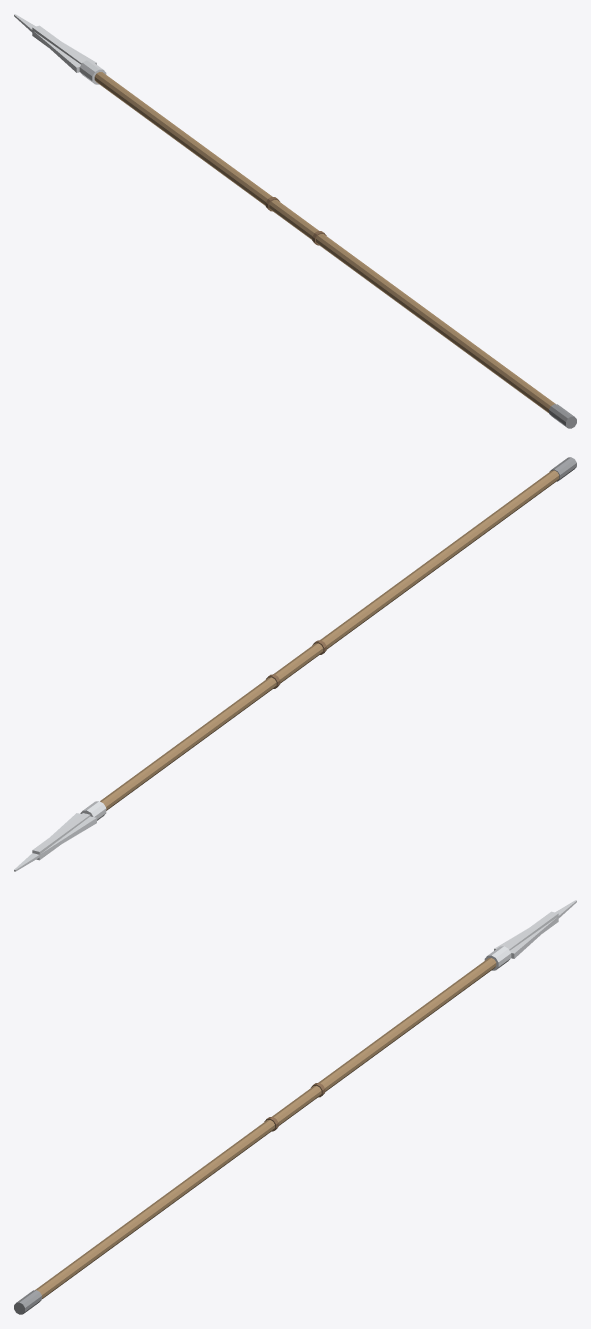
File: spear.glb
3 views of the same model, one above another, from view 1: azimuth 30°, elevation 25°; view 2: azimuth 150°, elevation 25°; view 3: azimuth 330°, elevation 25° (orthographic).
Visible parts, largest first — view 1: spear; view 2: spear; view 3: spear.
Boxes of the visible parts, x1,y1,x2,y2 form: spear: [14, 14, 576, 428]; spear: [14, 457, 576, 871]; spear: [14, 900, 576, 1314].
Bounding box in the file's own units: 0.055 × 0.04 × 2.63.
